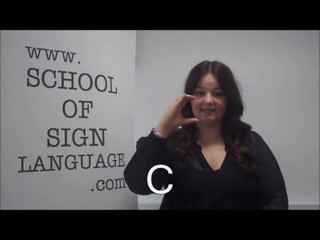C: (165, 90, 206, 133)
